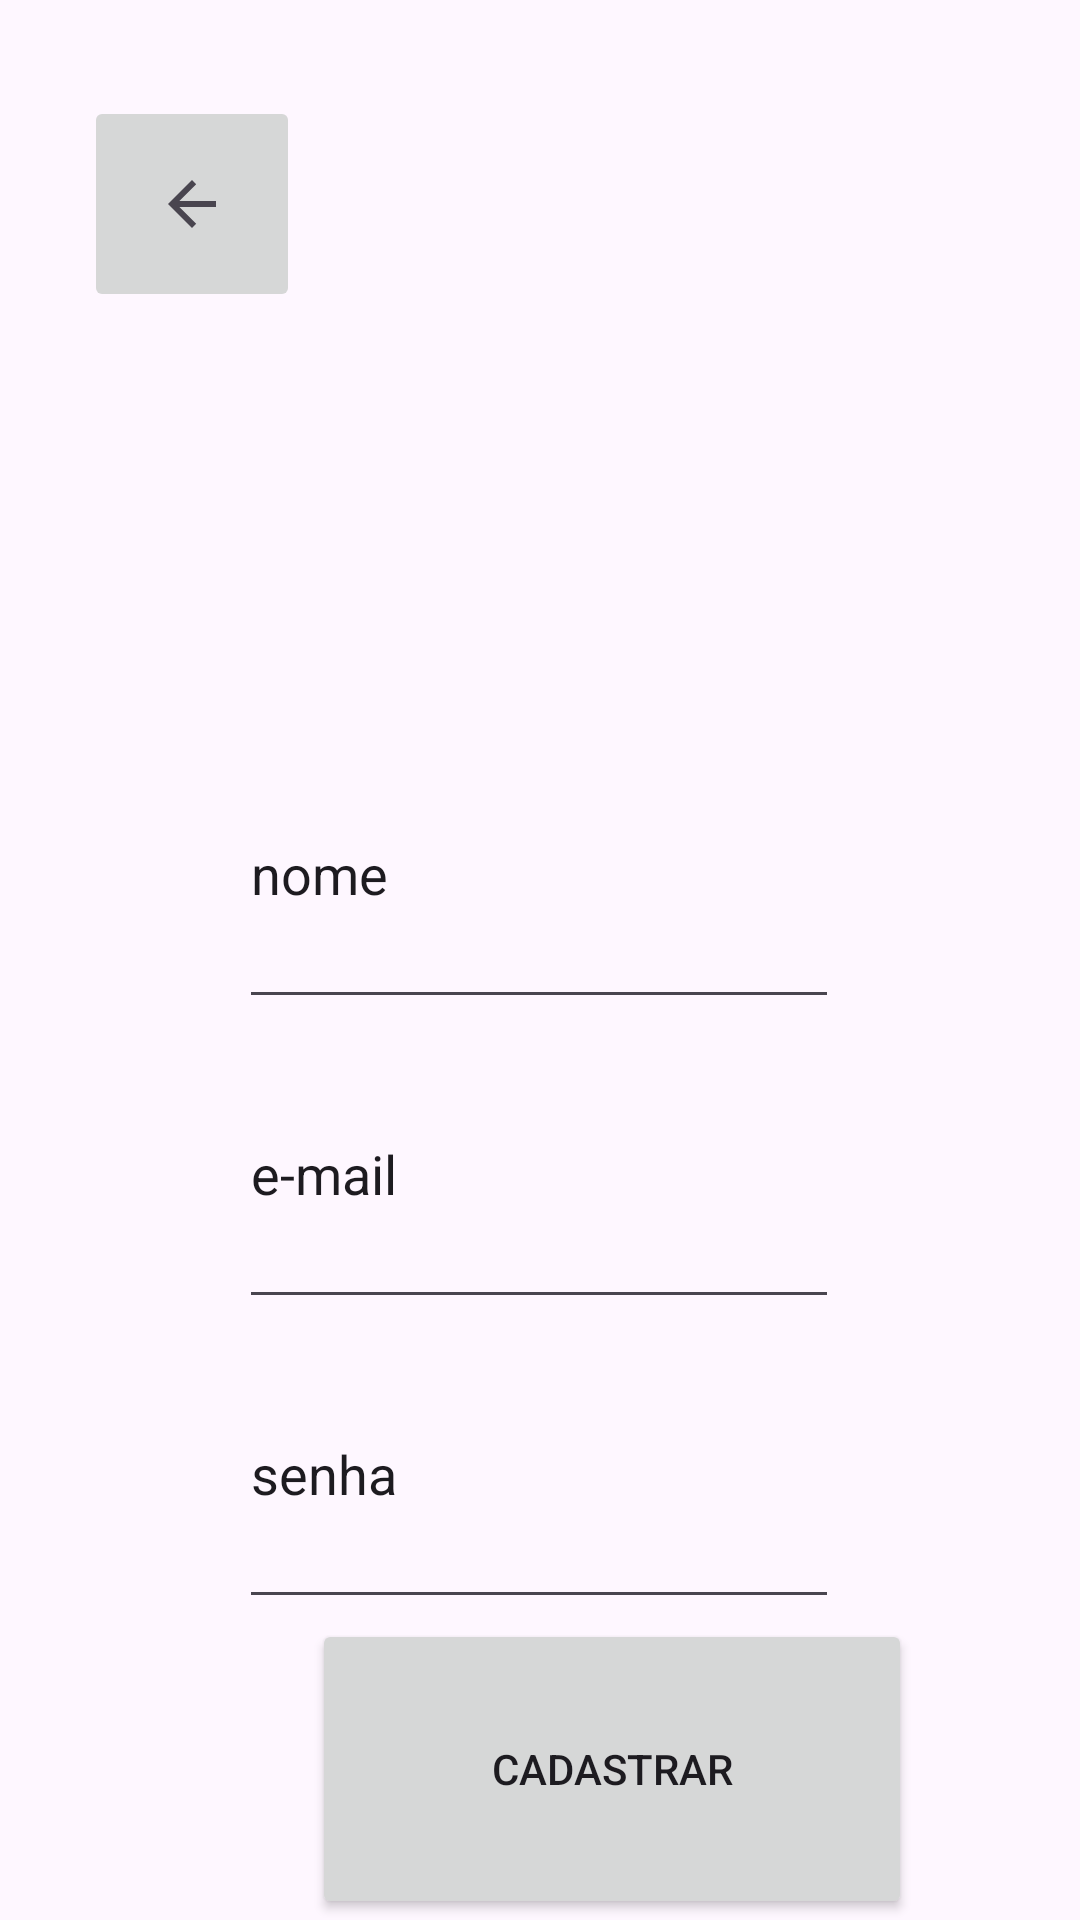

Screen size 1080 x 1920. Icon name, then its center in pixels as [x,y]:
Voltar: [192,204]
